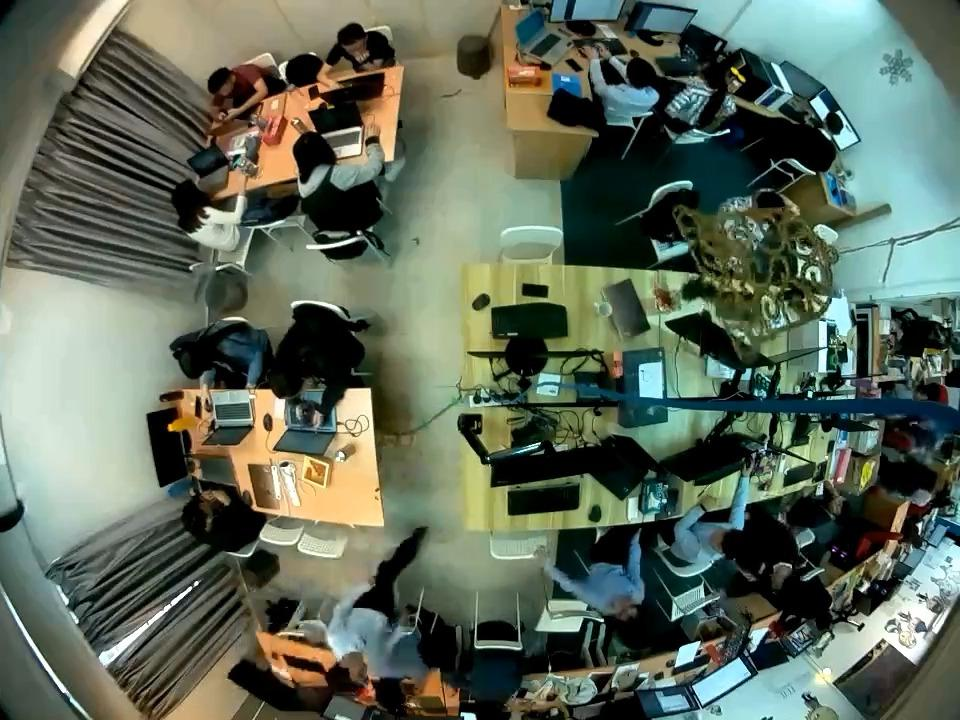name-tag: (357, 633, 369, 647)
